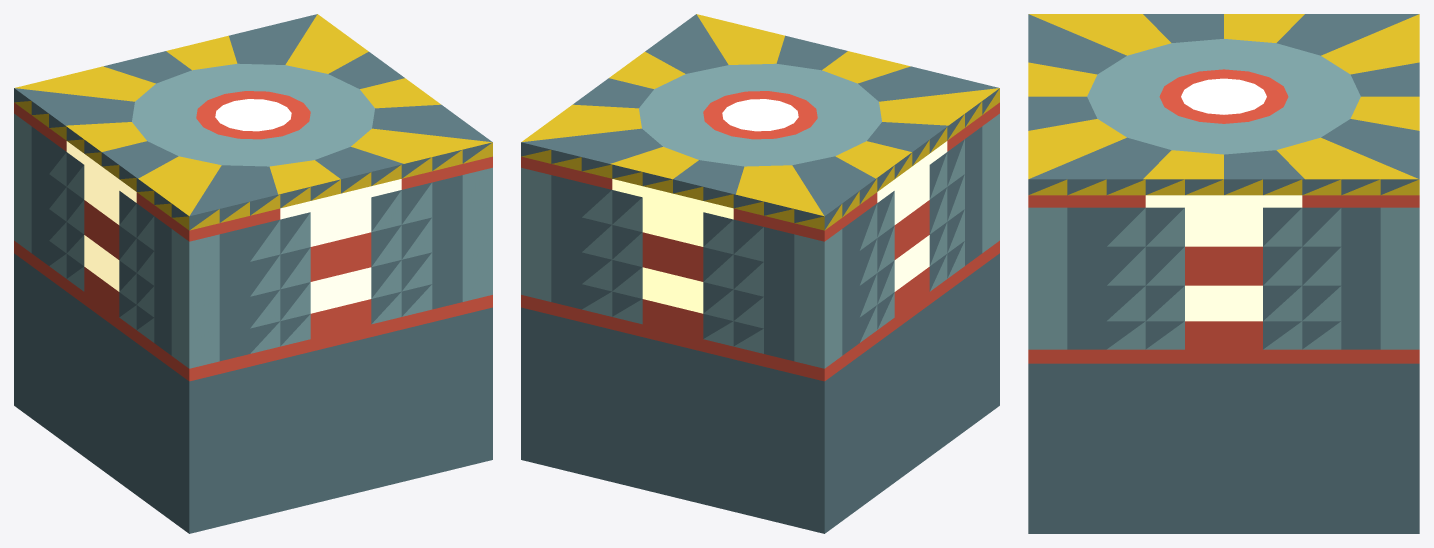
The model's file is tower.glb.
The picture shows the model from 3 angles, left to right: view 1: azimuth 30°, elevation 25°; view 2: azimuth 150°, elevation 25°; view 3: azimuth 270°, elevation 25°; orthographic projection. The views are drawn at different scales.
Parts seen in each view (by area): view 1: detail_Podium concrete, detail_Court teal, detail_Safety lemon, detail_Coral enamel, detail_Beacon ivory; view 2: detail_Podium concrete, detail_Court teal, detail_Safety lemon, detail_Coral enamel, detail_Beacon ivory; view 3: detail_Podium concrete, detail_Court teal, detail_Safety lemon, detail_Coral enamel, detail_Beacon ivory.
Part boxes in pixels (x1,y1,x2,y2): detail_Podium concrete: (14,14,492,533); detail_Court teal: (14,63,492,368); detail_Safety lemon: (14,14,492,230); detail_Coral enamel: (14,91,492,381); detail_Beacon ivory: (66,99,401,313); detail_Podium concrete: (521,14,999,533); detail_Court teal: (521,63,999,368); detail_Safety lemon: (521,14,999,230); detail_Coral enamel: (521,91,999,381); detail_Beacon ivory: (612,99,947,313); detail_Podium concrete: (1028,14,1419,533); detail_Court teal: (1028,39,1419,349); detail_Safety lemon: (1028,14,1419,195); detail_Coral enamel: (1028,69,1419,363); detail_Beacon ivory: (1145,78,1302,321).
Bounding box in the file's own units: 10 × 10 × 10.
